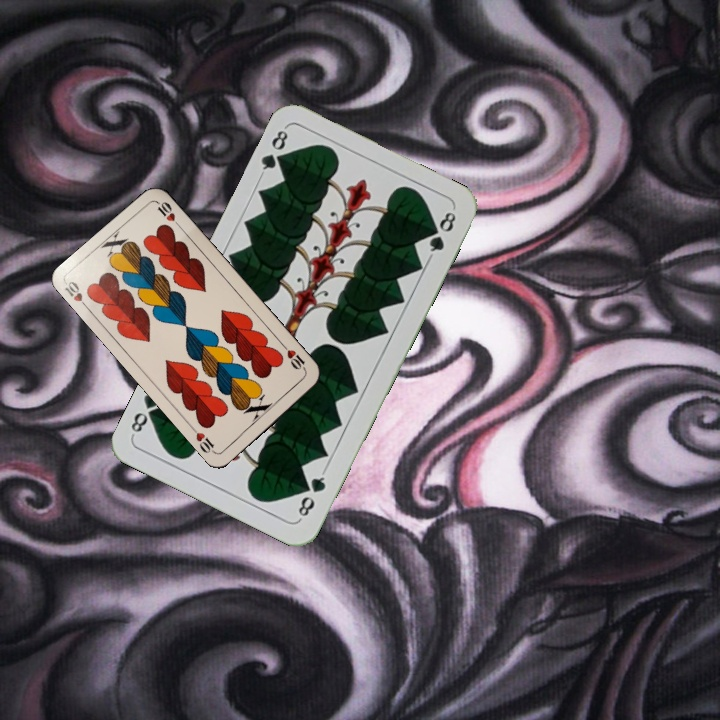G8: (256, 123, 291, 179), (294, 467, 329, 522)
H10: (61, 277, 93, 313), (278, 340, 309, 374)
